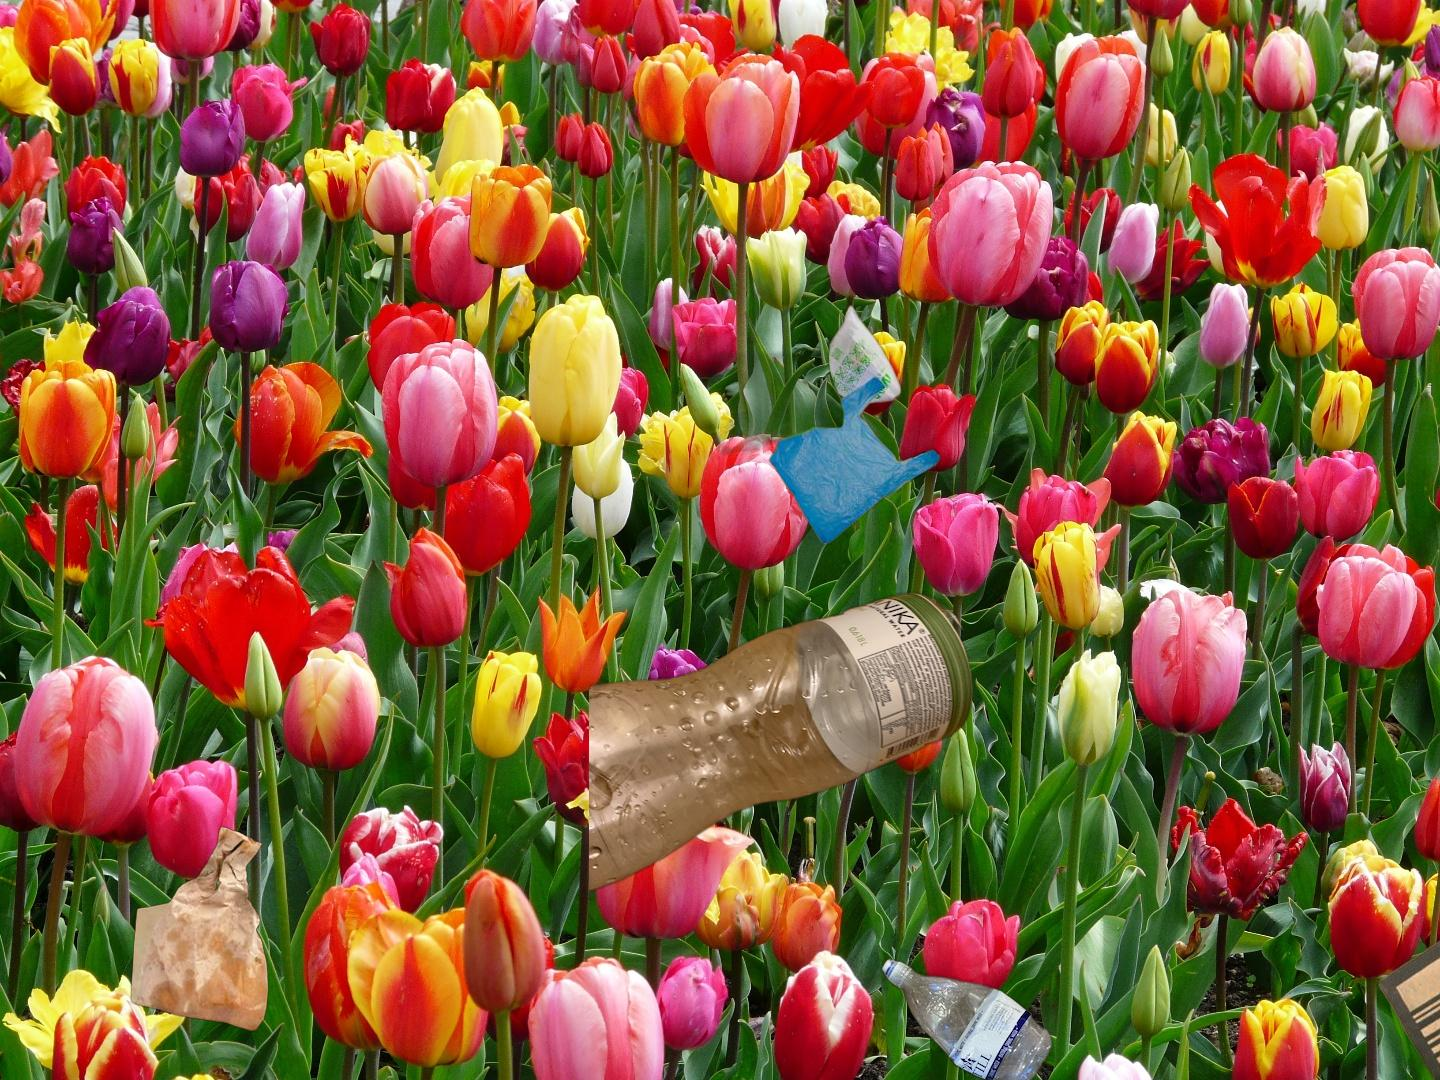paper-bag: (129, 822, 271, 1035)
plastic-bag: (703, 290, 972, 585)
plastic-bottles: (588, 587, 973, 896), (878, 955, 1054, 1080)
trashbox-cardboard: (1281, 903, 1440, 1080)
